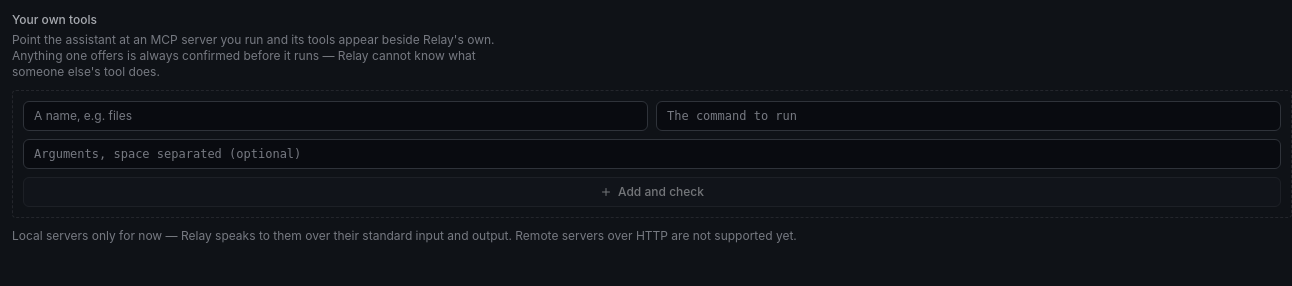
McpServers › does not save a server that would not start
In the field named "Server name": (336, 116) x1=23 y1=101 x2=648 y2=131, type "files"
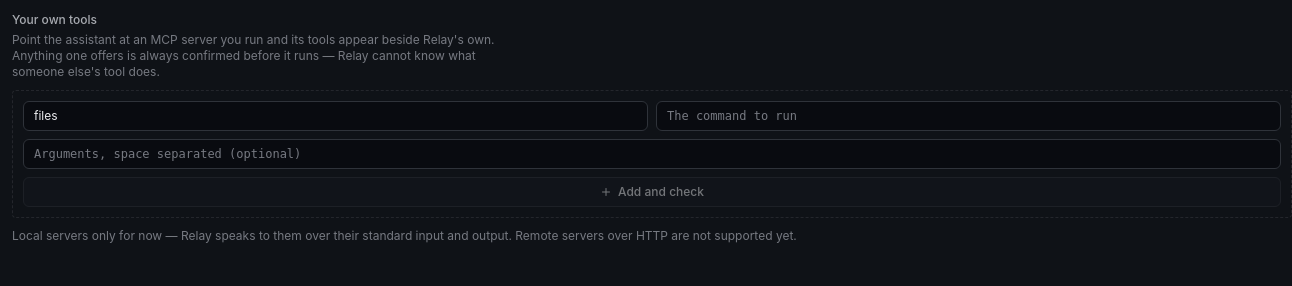
In the field named "Command": (968, 116) x1=656 y1=101 x2=1281 y2=131, type "mcp-filesystem"
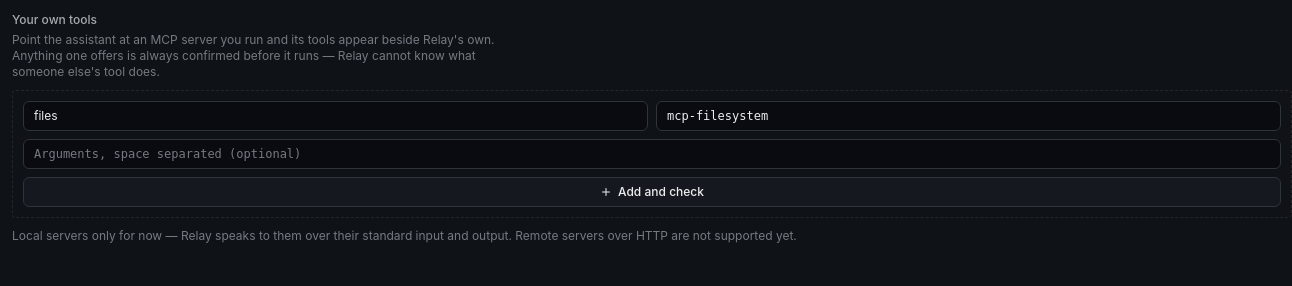
Click the button "Add and check": (652, 192) x1=23 y1=177 x2=1281 y2=207
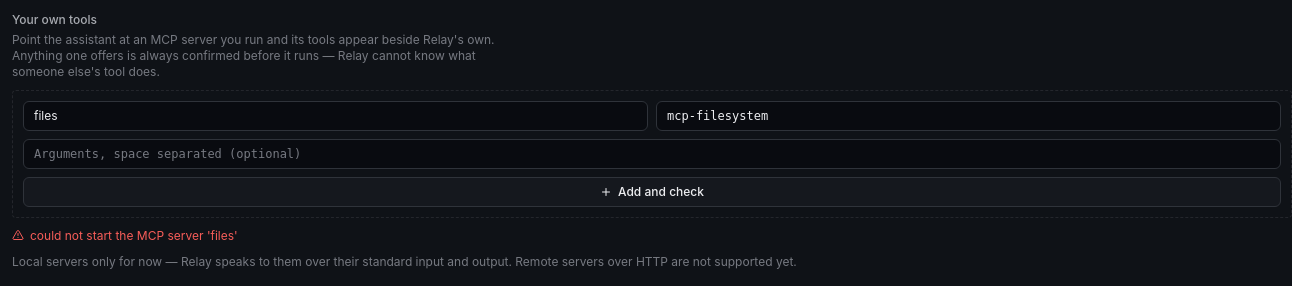
Check: the text "could not start" is shown, box x1=30 y1=228 x2=238 y2=243
